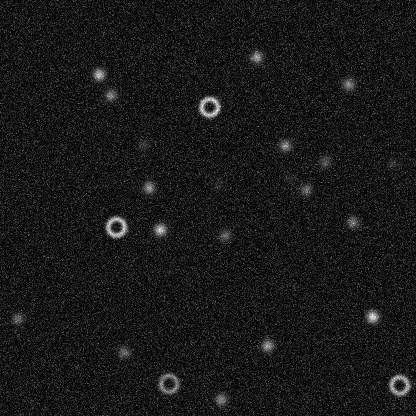Ring: (156, 371, 180, 395), (104, 214, 128, 238), (387, 372, 411, 396), (197, 94, 221, 118)
Spot: (102, 87, 118, 103), (140, 179, 156, 195), (9, 310, 25, 326), (344, 214, 360, 230), (248, 48, 264, 64), (259, 337, 275, 353), (364, 308, 380, 324), (276, 137, 292, 153), (340, 76, 356, 92), (316, 154, 332, 170), (90, 66, 106, 82), (152, 221, 168, 237), (135, 136, 151, 152), (298, 181, 314, 197), (281, 170, 297, 186), (216, 227, 232, 243), (212, 391, 228, 407), (209, 176, 225, 192), (384, 155, 400, 171), (115, 343, 131, 359)
